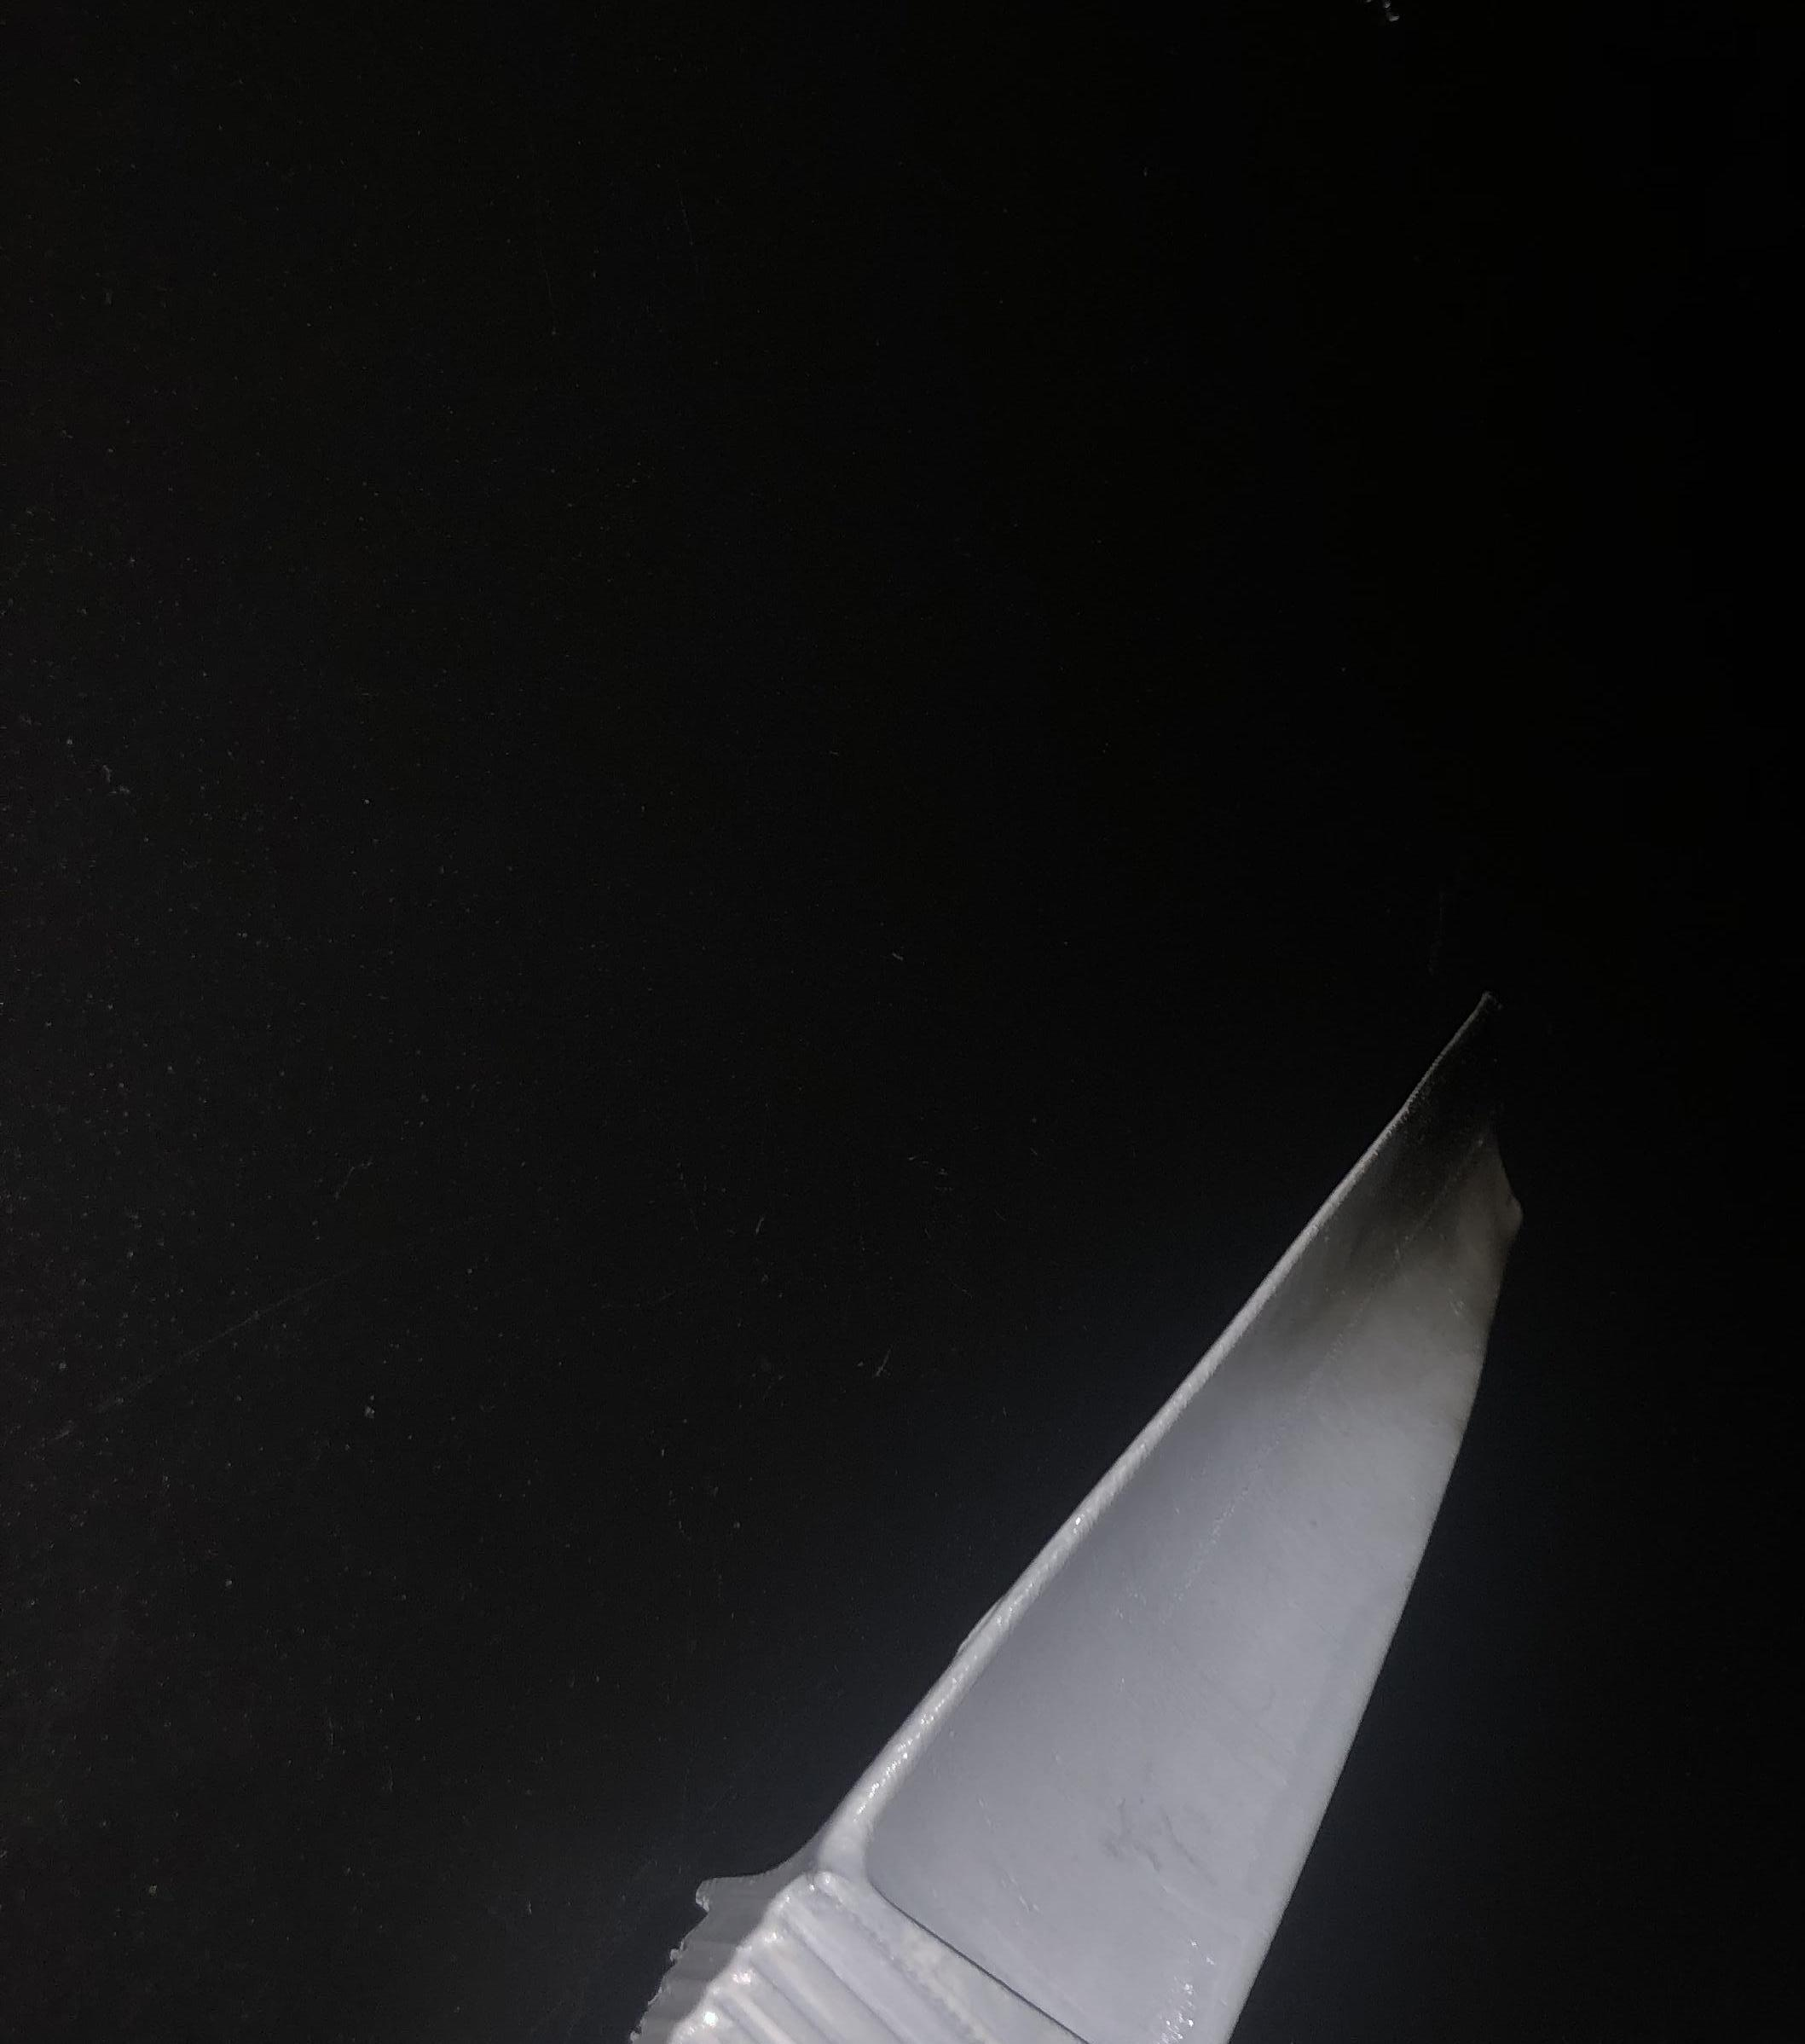ablation: (1399, 1037, 1502, 1314)
